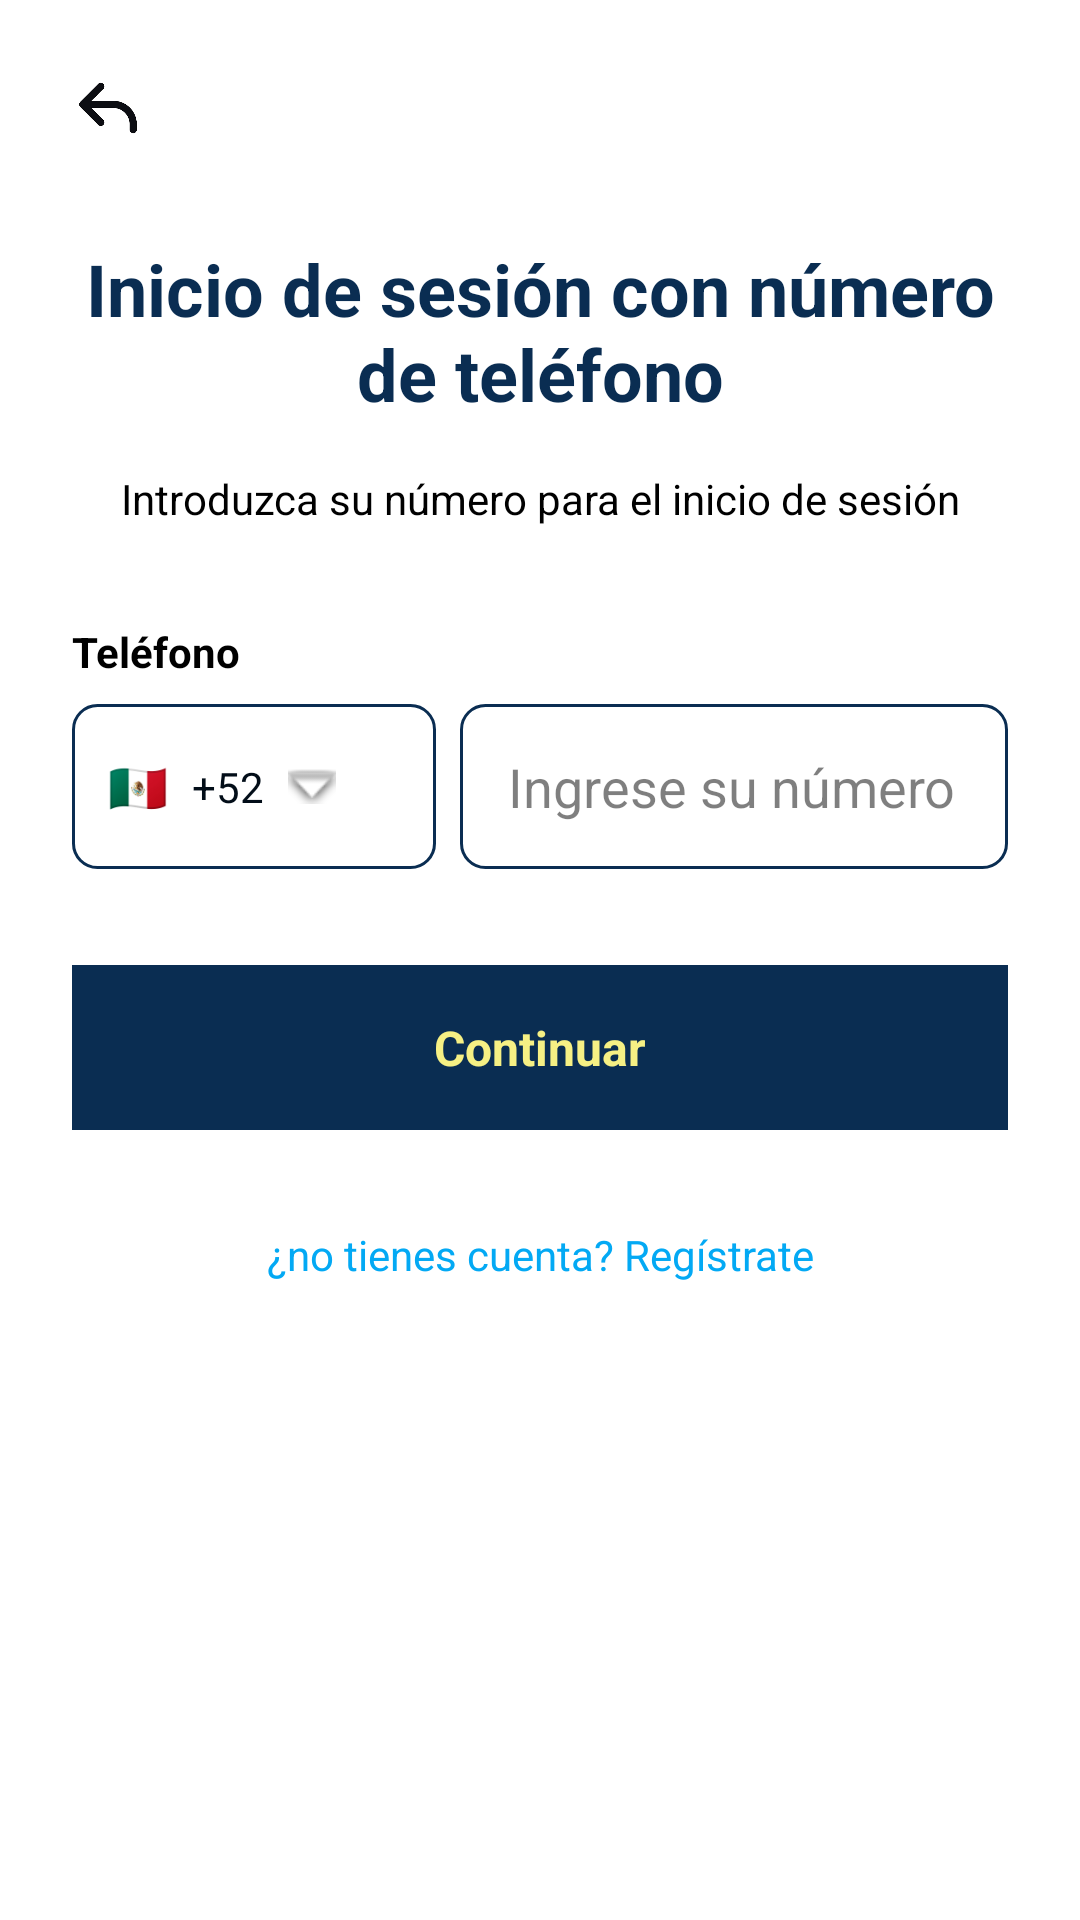

Where icons sit on this 1080 x 1920 app screen, as Rect(x1, y1, x2, y2):
arrow down float: Rect(288, 770, 336, 803)
flecha: Rect(79, 83, 137, 133)
